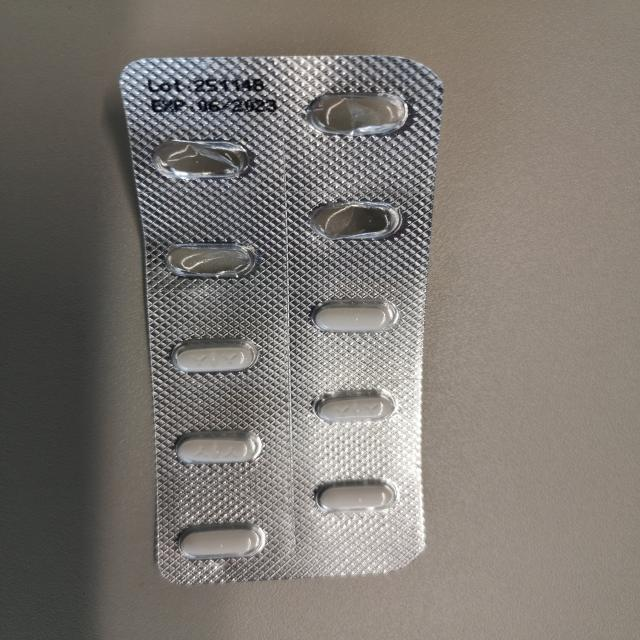Empty: (300, 86, 418, 141), (148, 136, 255, 186), (300, 197, 408, 246), (158, 238, 263, 285)
Pill: (171, 519, 270, 563), (305, 296, 408, 338), (306, 475, 404, 517), (164, 336, 269, 375), (167, 428, 266, 469), (303, 387, 405, 426)
